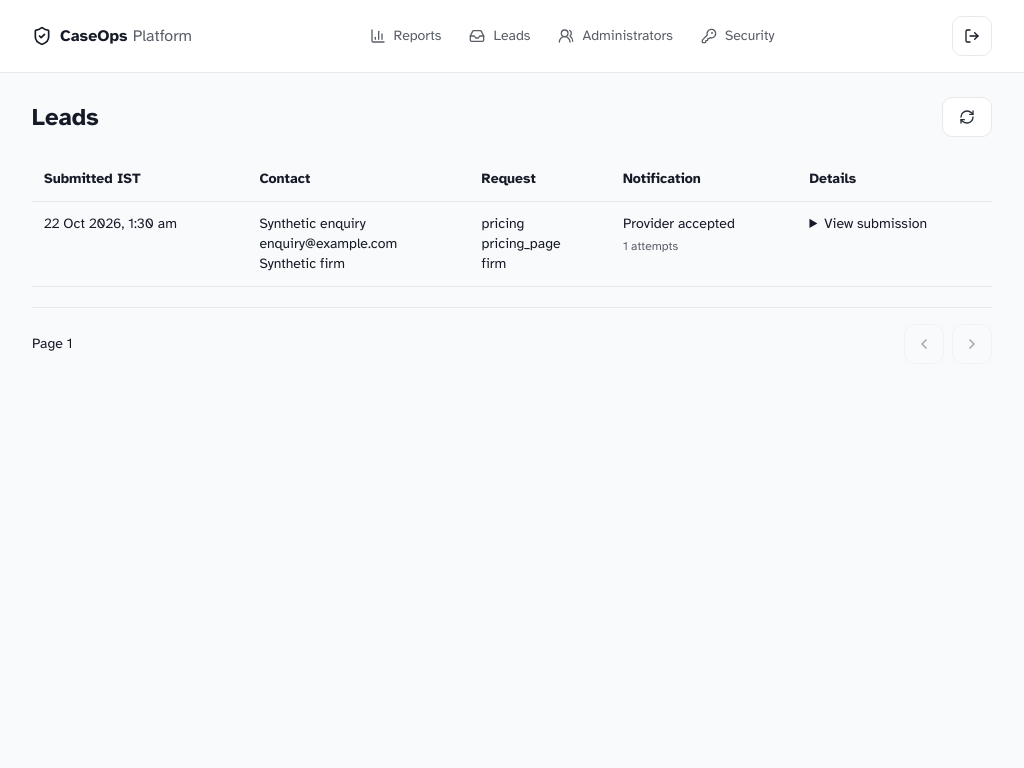
Test: platform leads renderer through the real console client › shows all allowlisted details, the original instant in IST, and no inbox-delivery claim
Expected: the text "Provider accepted" is shown, [623,215,735,232]
Click the heading "View submission": (876, 224) [824,215,927,232]
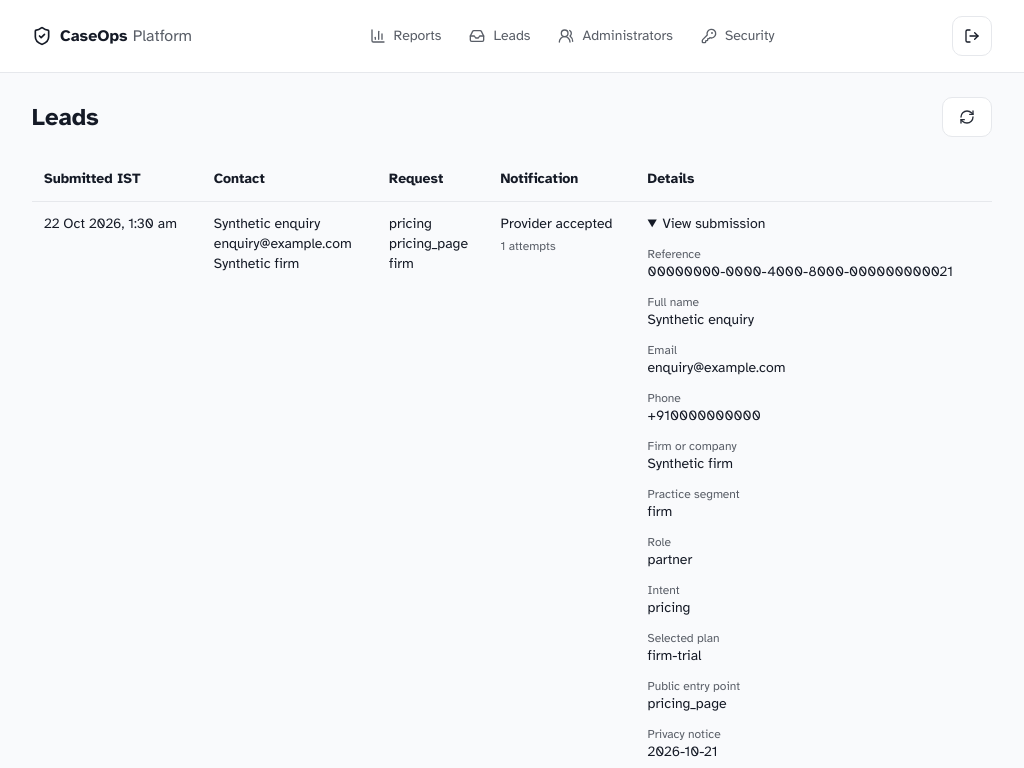
Now the text "00000000-0000-4000-8000-000000000021" is shown, box [648,262,980,282]
Now the text "Synthetic enquiry" below "Full name" is shown, box [648,311,754,328]
Now the text "enquiry@example.com" below "Email" is shown, box [648,359,786,376]
